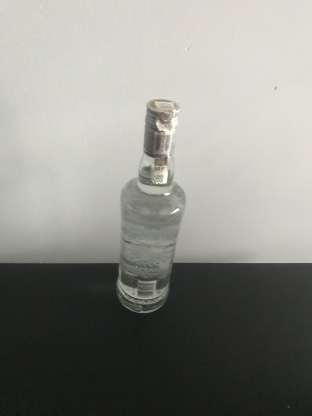nakretka: (141, 97, 181, 157)
